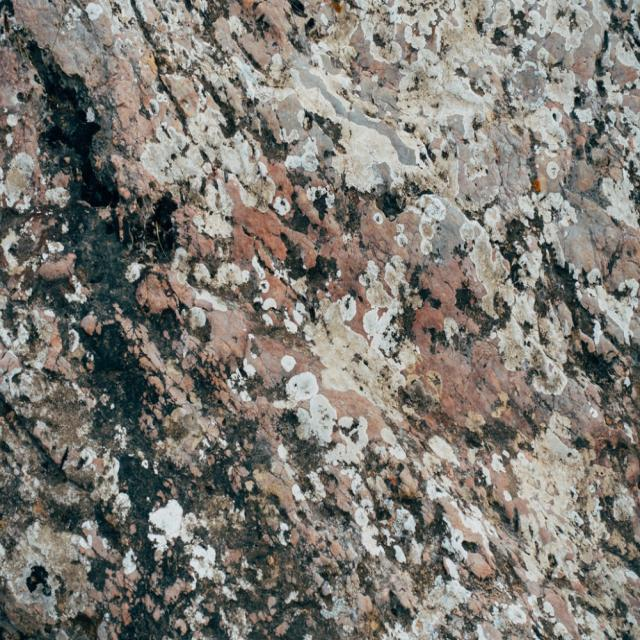Igneous: (1, 1, 638, 636)
